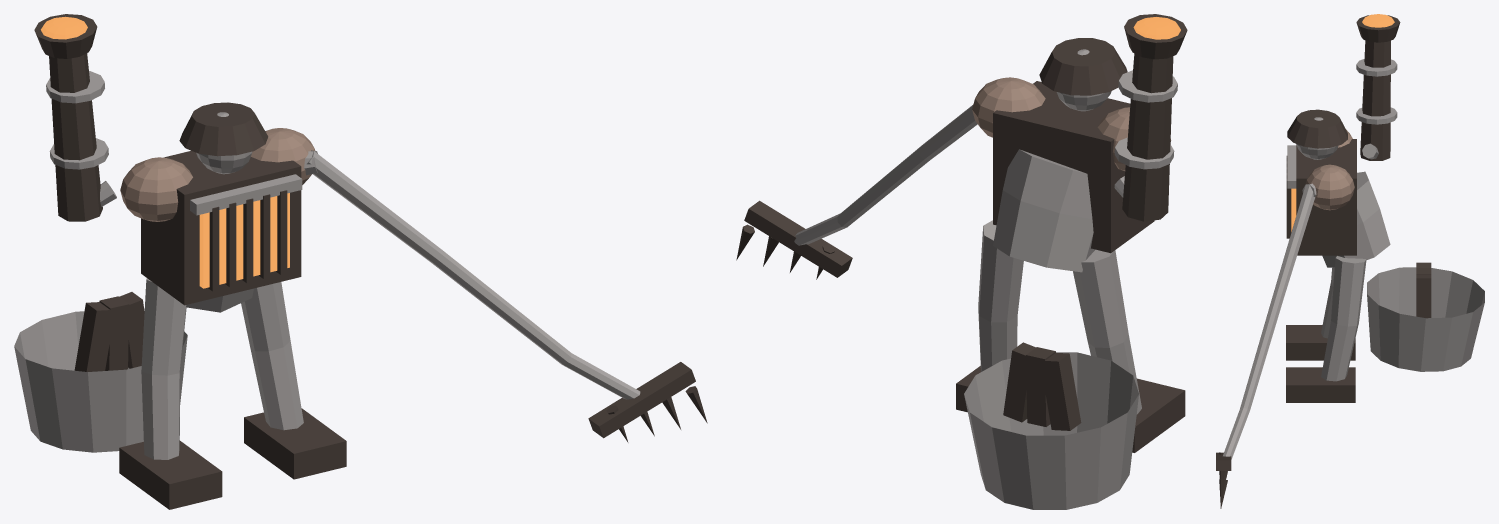
File: stoker.glb
3 views of the same model, side by side, from view 1: azimuth 30°, elevation 25°; view 2: azimuth 150°, elevation 25°; view 3: azimuth 270°, elevation 25° (orthographic). The views are drawn at different scales.
Parts seen in each view (by area): view 1: stoker_dark, stoker_bone, stoker_body, stoker_glow; view 2: stoker_bone, stoker_dark, stoker_body, stoker_glow; view 3: stoker_bone, stoker_dark, stoker_body, stoker_glow.
Part boxes in pixels (x1=…): stoker_dark: x1=34, y1=14, x2=707, y2=509; stoker_bone: x1=14, y1=71, x2=640, y2=459; stoker_body: x1=120, y1=128, x2=315, y2=221; stoker_glow: x1=41, y1=16, x2=289, y2=288; stoker_bone: x1=794, y1=49, x2=1177, y2=509; stoker_dark: x1=736, y1=14, x2=1187, y2=452; stoker_body: x1=972, y1=77, x2=1171, y2=170; stoker_glow: x1=1133, y1=17, x2=1180, y2=39; stoker_bone: x1=1223, y1=59, x2=1484, y2=459; stoker_dark: x1=1216, y1=15, x2=1431, y2=508; stoker_body: x1=1305, y1=129, x2=1354, y2=210; stoker_glow: x1=1291, y1=14, x2=1394, y2=231.
Bounding box in the file's own units: 3.11 × 2.4 × 1.87.
